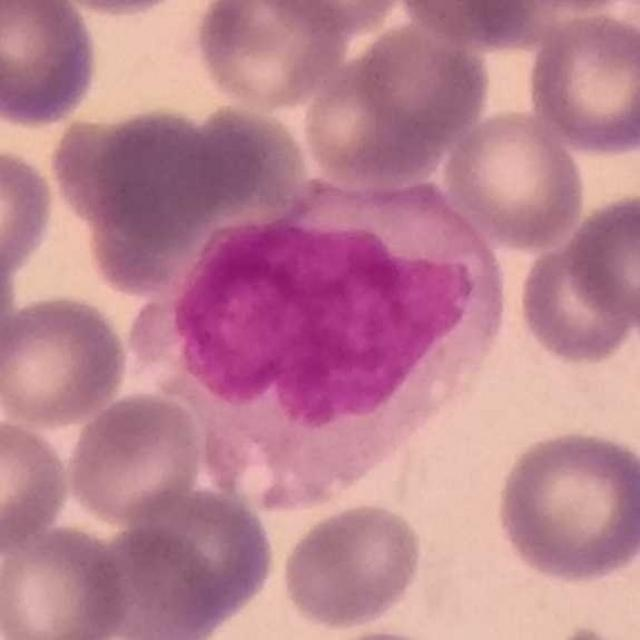mono: (124, 168, 513, 513)
